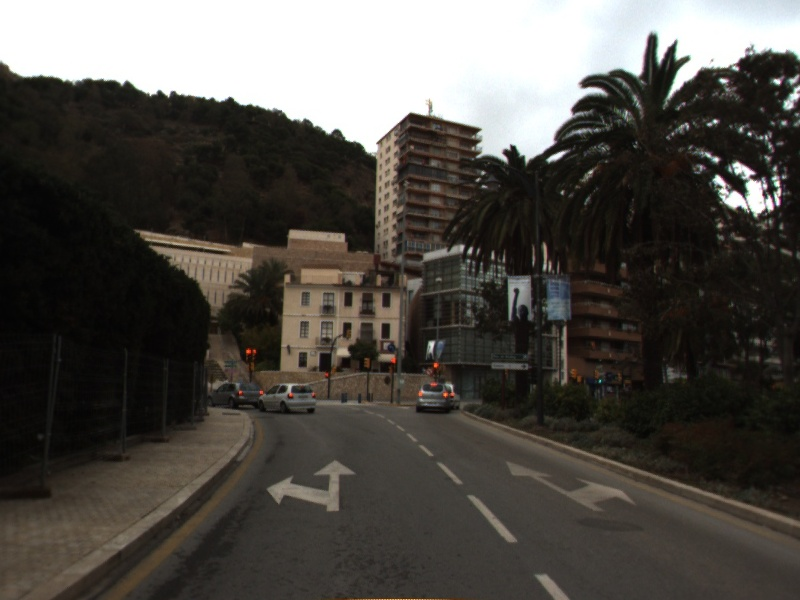STRAIGHT_LEFT: (265, 458, 358, 513)
STRAIGHT_RIGHT: (504, 459, 638, 513)
